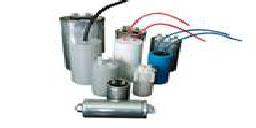Electrolytic-capacitor: (72, 99, 158, 120), (68, 33, 100, 82), (147, 47, 175, 88)
